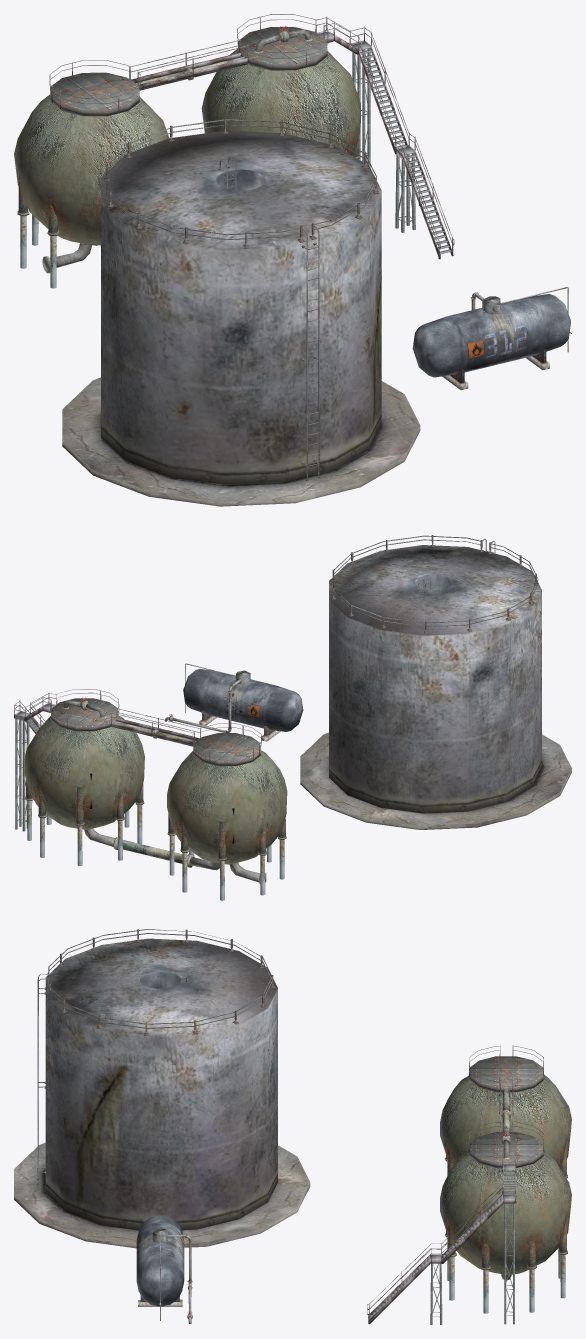
File: scene-storage-tanks.glb
3 renders of one model, top to bottom at view 1: azimuth 30°, elevation 25°; view 2: azimuth 150°, elevation 25°; view 3: azimuth 270°, elevation 25°, orthographic. The views are drawn at different scales.
Parts seen in each view (by area): view 1: pCylinder2_Large_tank_0, Round_TankA_Legs_Round_Tank_Material_0, PipeBendC_lambert3_0, Long_Tank:ThickbendA_Long_Tank:Long_TankA_Material_0; view 2: pCylinder2_Large_tank_0, Round_TankA_Legs_Round_Tank_Material_0, Long_Tank:ThickbendA_Long_Tank:Long_TankA_Material_0, PipeBendC_lambert3_0; view 3: pCylinder2_Large_tank_0, Round_TankA_Legs_Round_Tank_Material_0, PipeBendC_lambert3_0, Long_Tank:ThickbendA_Long_Tank:Long_TankA_Material_0.
Part boxes in pixels (x1=…): pCylinder2_Large_tank_0: x1=62, y1=118, x2=420, y2=506; Round_TankA_Legs_Round_Tank_Material_0: x1=14, y1=27, x2=360, y2=288; PipeBendC_lambert3_0: x1=42, y1=14, x2=454, y2=273; Long_Tank:ThickbendA_Long_Tank:Long_TankA_Material_0: x1=412, y1=287, x2=571, y2=390; pCylinder2_Large_tank_0: x1=300, y1=535, x2=571, y2=829; Round_TankA_Legs_Round_Tank_Material_0: x1=24, y1=698, x2=287, y2=900; Long_Tank:ThickbendA_Long_Tank:Long_TankA_Material_0: x1=165, y1=663, x2=303, y2=741; PipeBendC_lambert3_0: x1=14, y1=689, x2=266, y2=884; pCylinder2_Large_tank_0: x1=14, y1=929, x2=310, y2=1248; Round_TankA_Legs_Round_Tank_Material_0: x1=440, y1=1056, x2=571, y2=1313; PipeBendC_lambert3_0: x1=367, y1=1045, x2=544, y2=1324; Long_Tank:ThickbendA_Long_Tank:Long_TankA_Material_0: x1=136, y1=1215, x2=192, y2=1323.
Size of the model in its own units: 10.2 by 5.16 by 12.
Materials: 5 (5 with a texture image).
